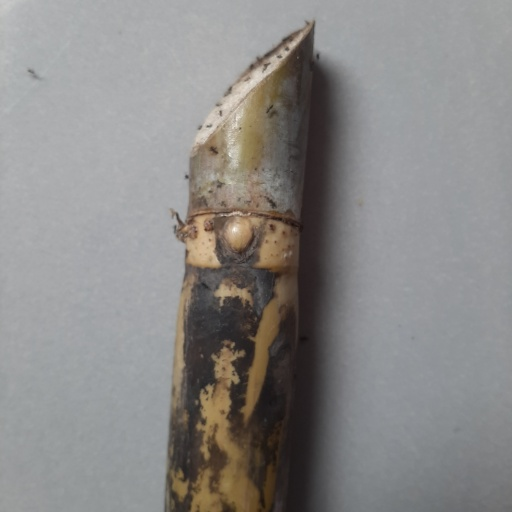Bud: (223, 214, 256, 256)
